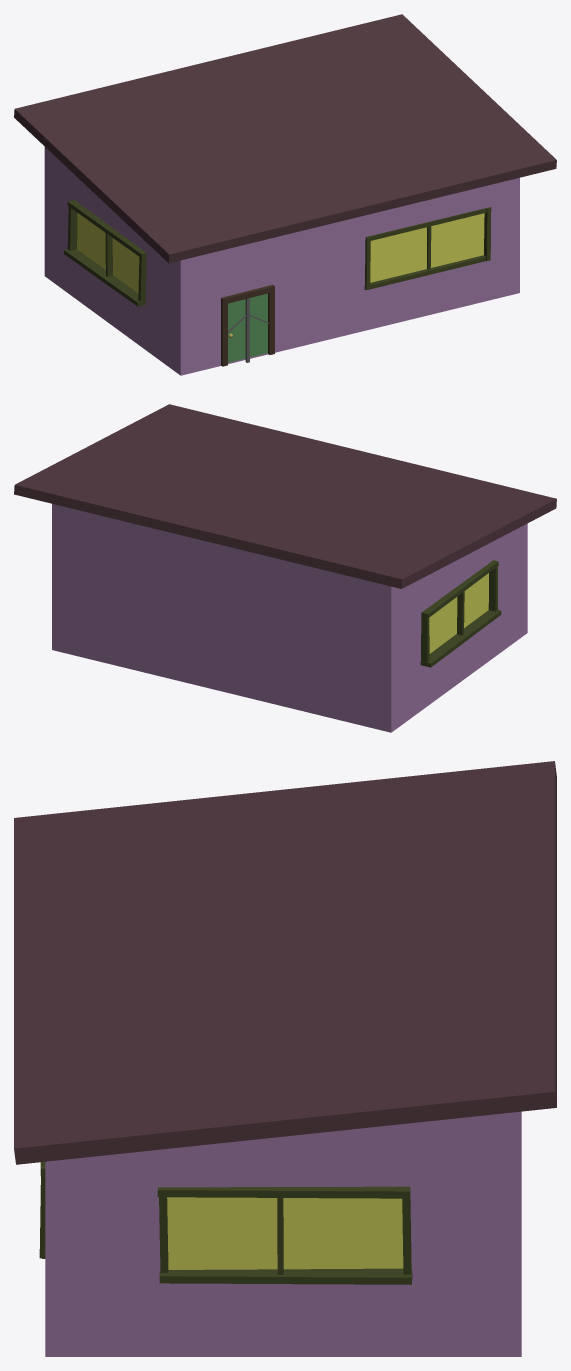
File: House12.fbx
The picture shows the model from 3 angles, top to bottom: view 1: azimuth 30°, elevation 25°; view 2: azimuth 150°, elevation 25°; view 3: azimuth 270°, elevation 25°; orthographic projection. The views are drawn at different scales.
Parts seen in each view (by area): view 1: Cube.052, Cube, Cube.003, Cube.001, Cube.074, Cube.054, Cube.064, Cube.053, Cube.063, Cube.068; view 2: Cube, Cube.052, Cube.001, Cube.054, Cube.053; view 3: Cube.052, Cube, Cube.002, Cube.059, Cube.058.
Boxes of the visible parts, bbox=[...] form: Cube.052: bbox=[14, 14, 556, 263]; Cube: bbox=[44, 147, 519, 375]; Cube.003: bbox=[370, 213, 484, 282]; Cube.001: bbox=[77, 213, 139, 293]; Cube.074: bbox=[228, 293, 267, 362]; Cube.054: bbox=[64, 249, 145, 306]; Cube.064: bbox=[364, 255, 486, 289]; Cube.053: bbox=[67, 200, 146, 258]; Cube.063: bbox=[365, 207, 491, 240]; Cube.068: bbox=[221, 298, 227, 366]; Cube: bbox=[52, 504, 527, 732]; Cube.052: bbox=[14, 404, 556, 588]; Cube.001: bbox=[429, 573, 488, 653]; Cube.054: bbox=[420, 610, 501, 667]; Cube.053: bbox=[421, 560, 498, 618]; Cube.052: bbox=[14, 761, 556, 1164]; Cube: bbox=[45, 1111, 521, 1356]; Cube.002: bbox=[167, 1197, 403, 1269]; Cube.059: bbox=[159, 1268, 412, 1284]; Cube.058: bbox=[157, 1186, 410, 1198].
Bounding box in the file's own units: 1401 × 576 × 972.
